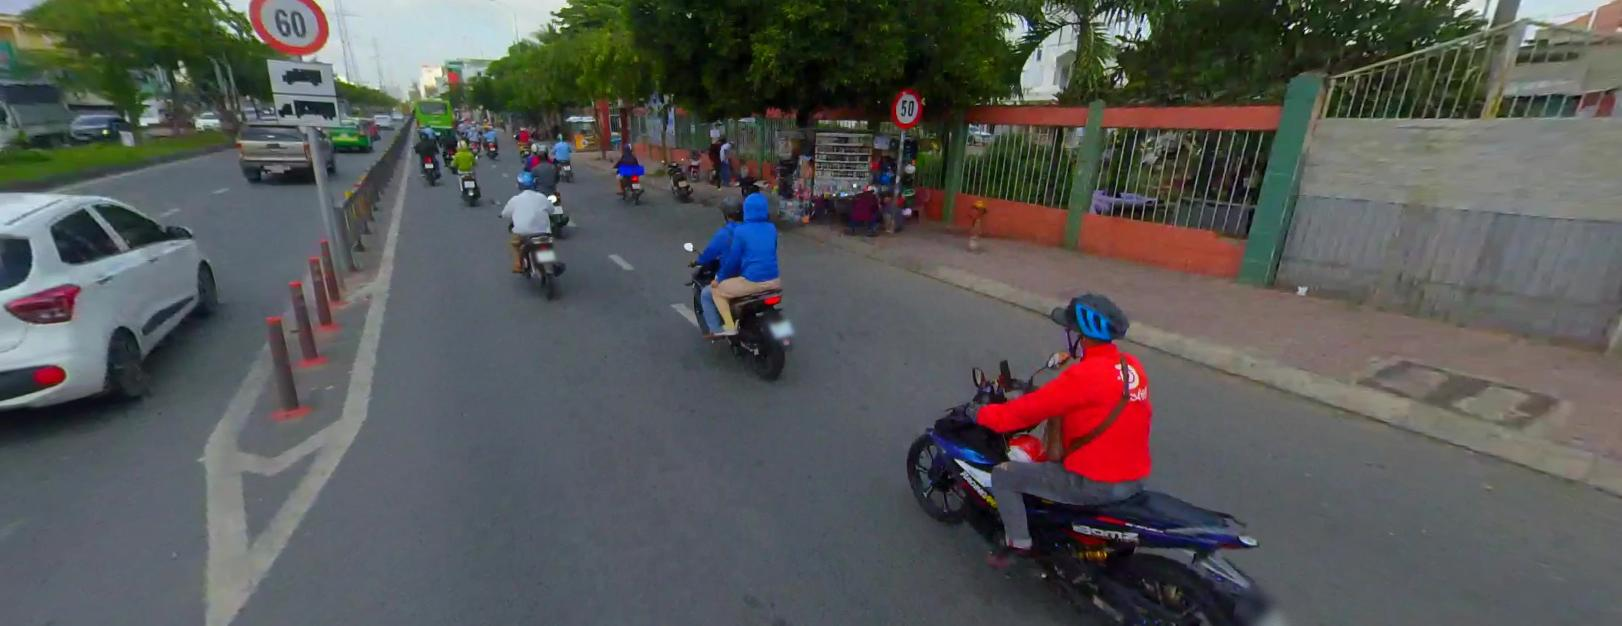Gioi han toc do: (247, 0, 329, 54), (890, 87, 923, 128)
